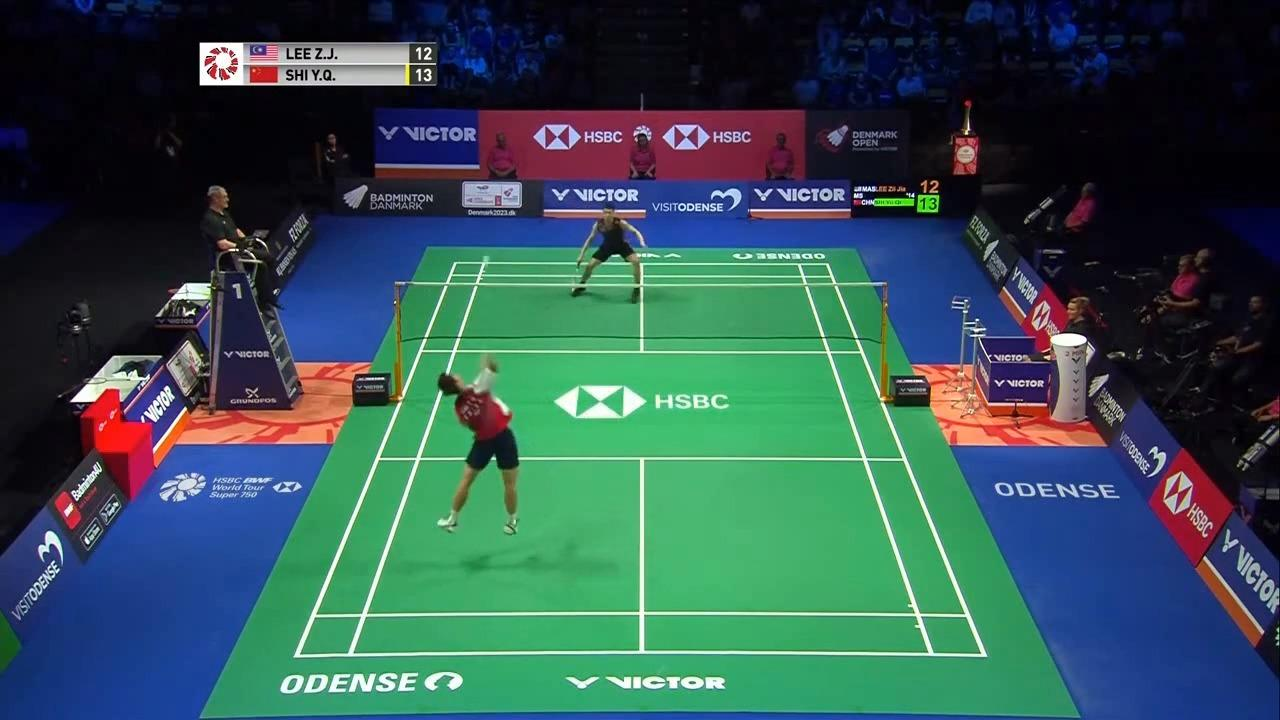shuttle: (482, 255, 492, 266)
